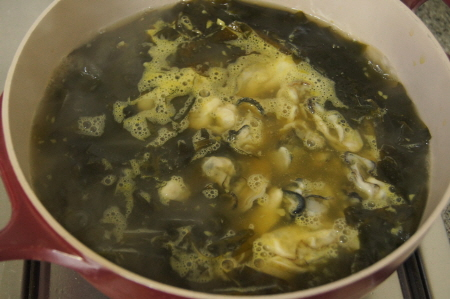miyeoggug: (44, 7, 421, 276)
